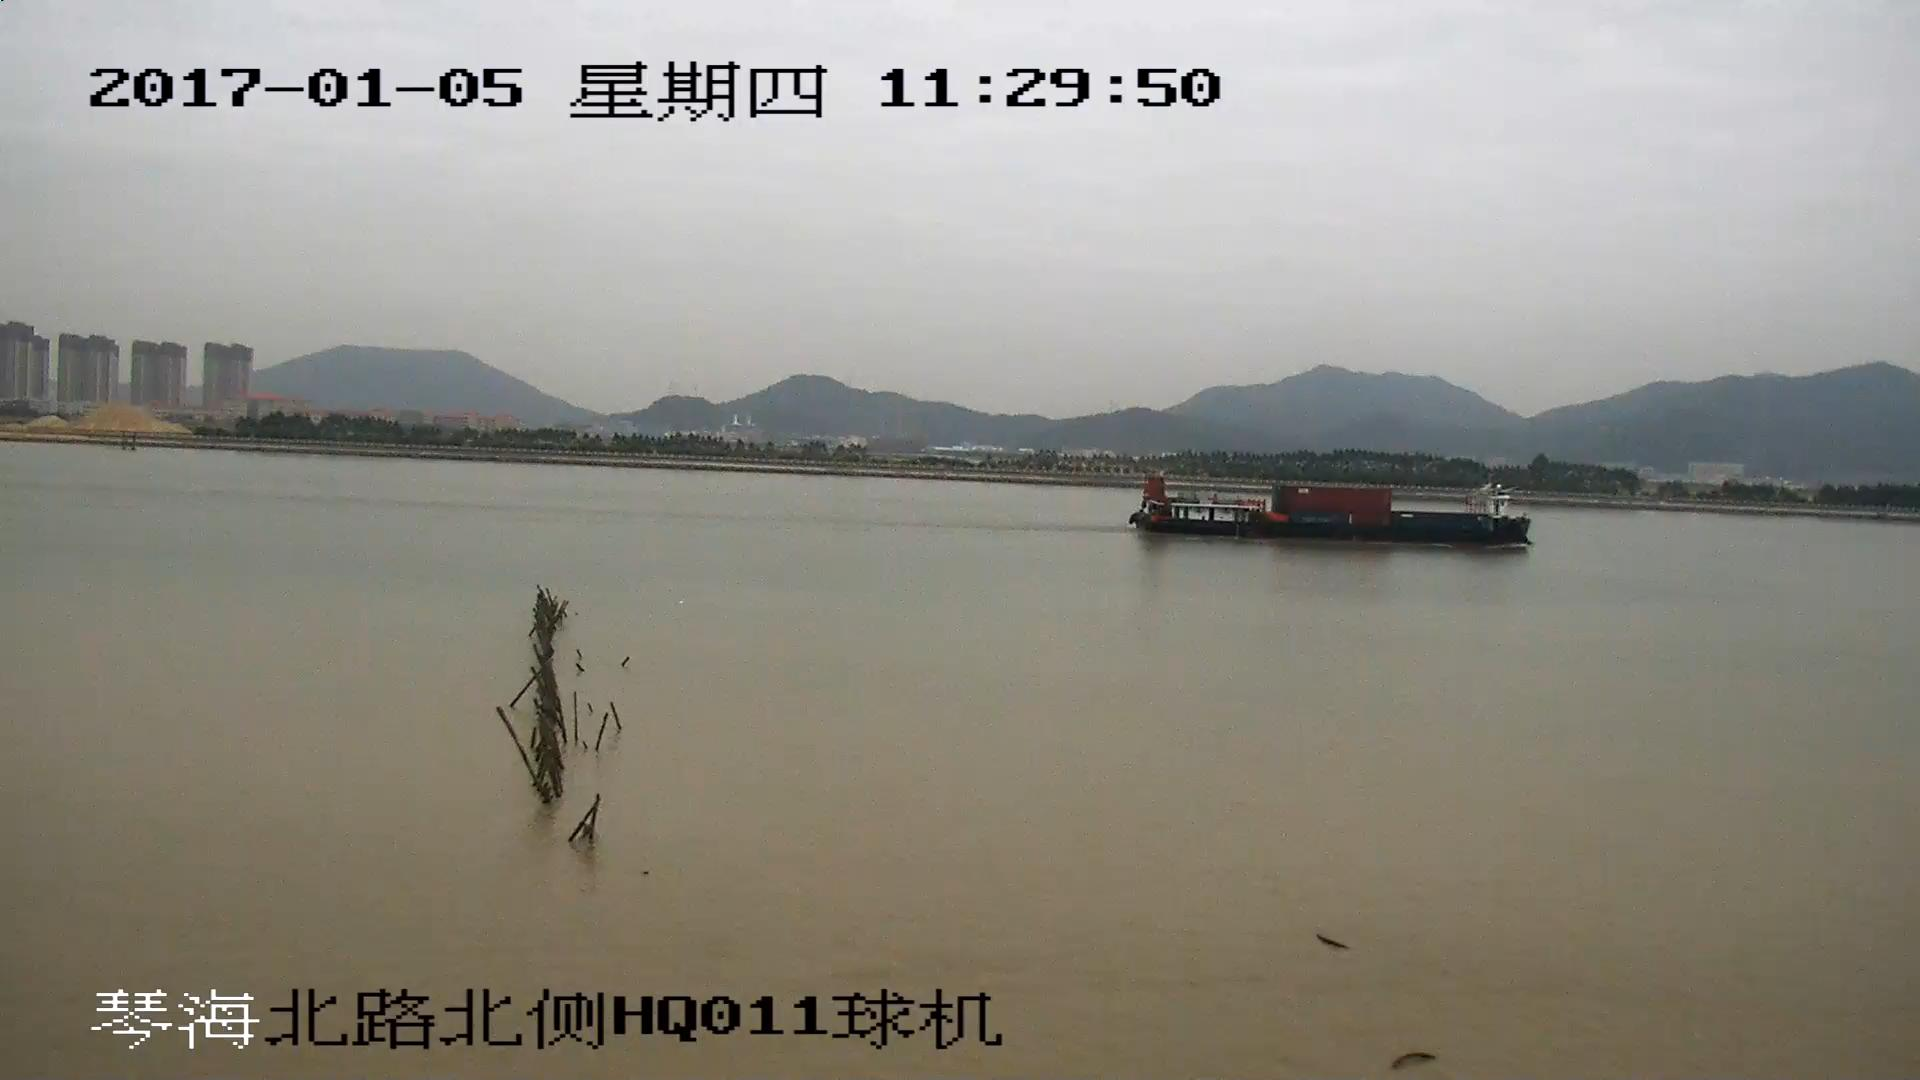container ship: (1127, 474, 1533, 552)
